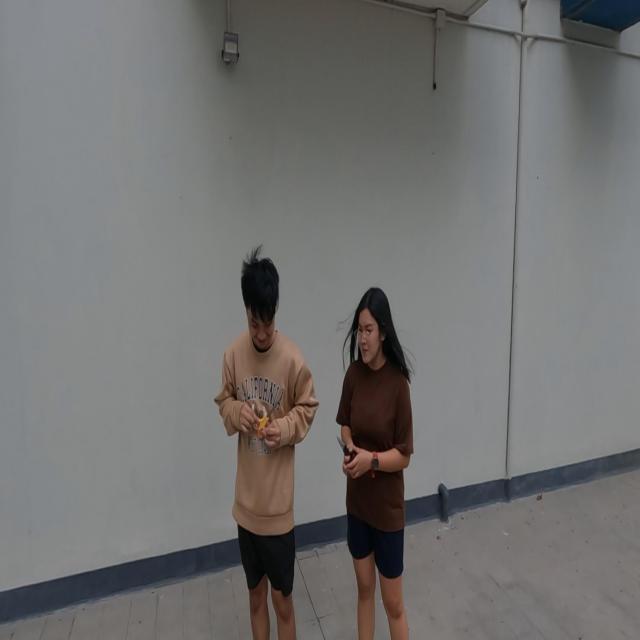scissor: (252, 398, 280, 441), (337, 434, 357, 475)
